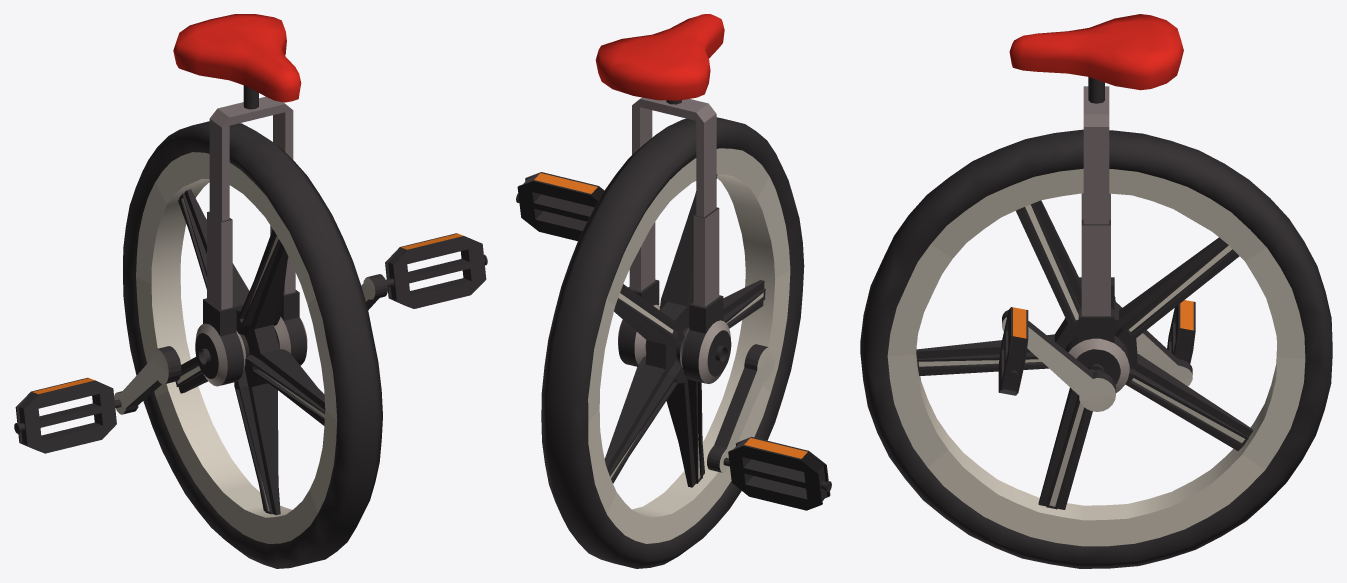
The model's file is UniCycle.fbx.
The picture shows the model from 3 angles, left to right: view 1: azimuth 30°, elevation 25°; view 2: azimuth 150°, elevation 25°; view 3: azimuth 270°, elevation 25°; orthographic projection. The views are drawn at different scales.
Visible parts, largest first — view 1: Wheel, Seat, Padel_Left___Right001, Padel_Left___Right; view 2: Wheel, Seat, Padel_Left___Right001, Padel_Left___Right; view 3: Wheel, Seat, Padel_Left___Right, Padel_Left___Right001.
Part boxes in pixels (x1,y1,x2,y2): Wheel: (114,121,387,568); Seat: (173,14,307,386); Padel_Left___Right001: (14,377,121,453); Padel_Left___Right: (385,233,487,308); Wheel: (541,117,804,568); Seat: (595,14,731,383); Padel_Left___Right001: (723,437,831,510); Padel_Left___Right: (516,172,604,241); Wheel: (860,129,1332,568); Seat: (1009,14,1183,392); Padel_Left___Right: (998,307,1028,395); Padel_Left___Right001: (1167,300,1195,363).
Bounding box in the file's own units: 25.59 × 32.06 × 25.94.
